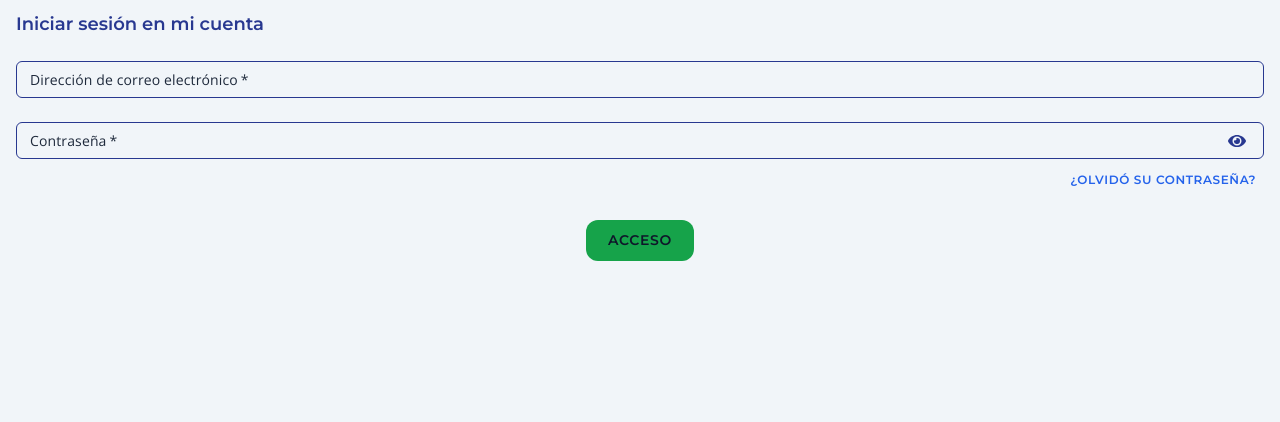
it: Login — cuando falla, lo dice en castellano › con auth/user-not-found muestra: Usuario no registrado
Type "aida@ferrequipos.com" into the field labelled "Dirección de correo electrónico *". click: (640, 80)
box: [16, 61, 1264, 98]
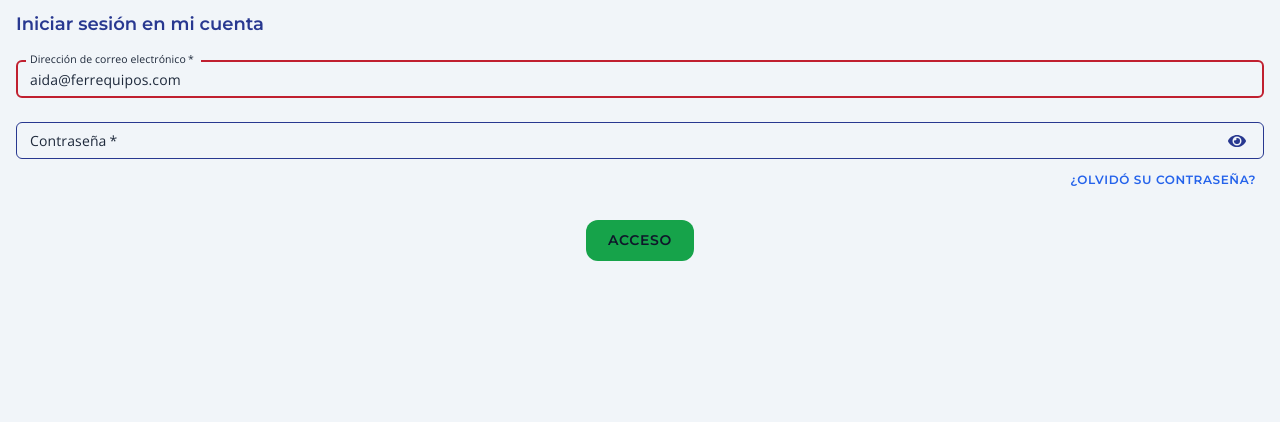
Type "secreta123" into the password field labelled "Contraseña *". click: (620, 141)
box: [16, 122, 1224, 159]
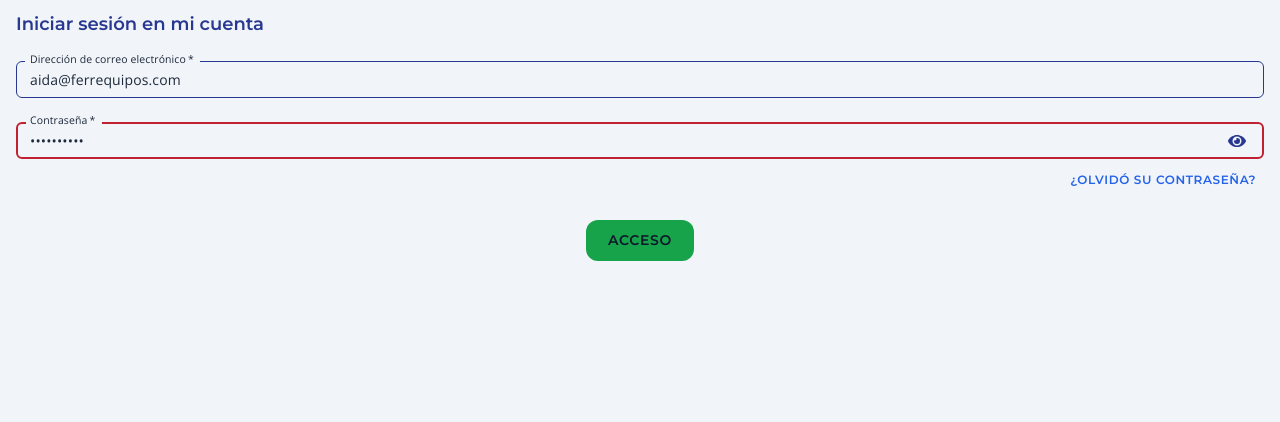
Click the button "ACCESO". click: (640, 240)
box: [586, 220, 694, 261]
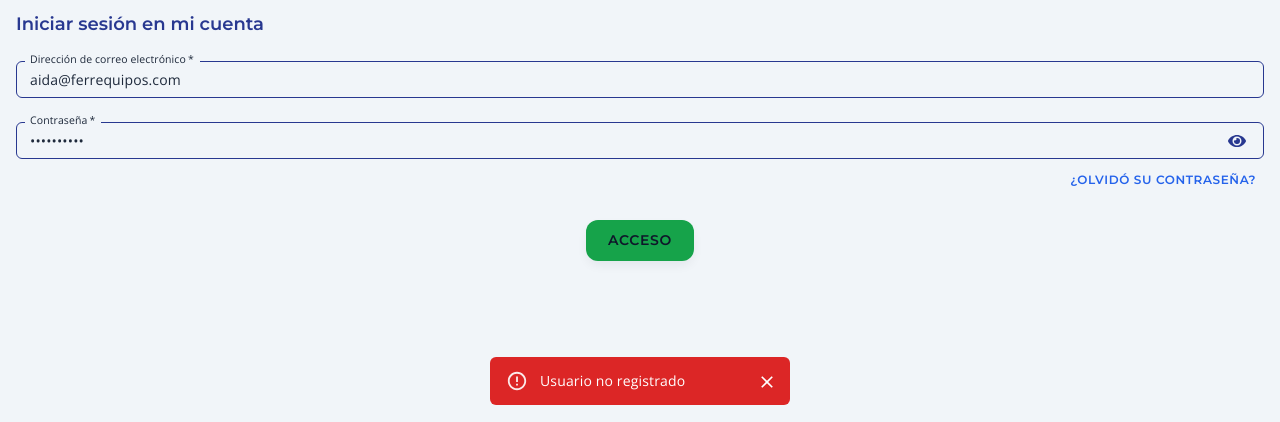
Now the text "Usuario no registrado" is shown, box [540, 371, 685, 390]
